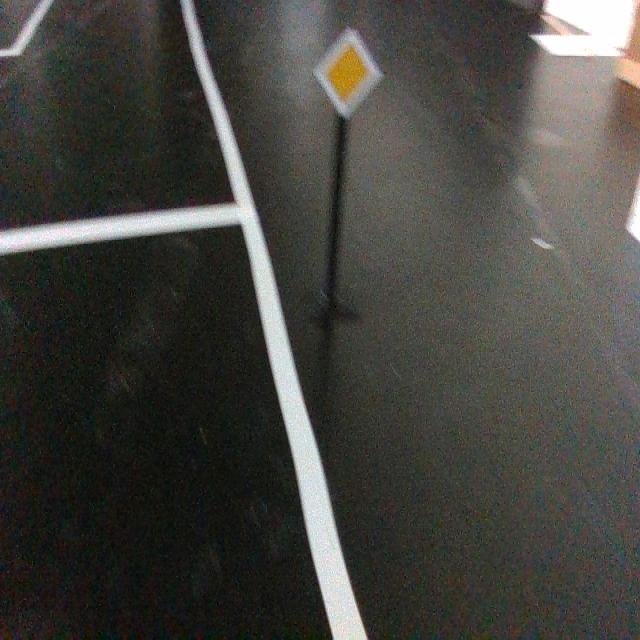priority-sign: (311, 25, 384, 120)
